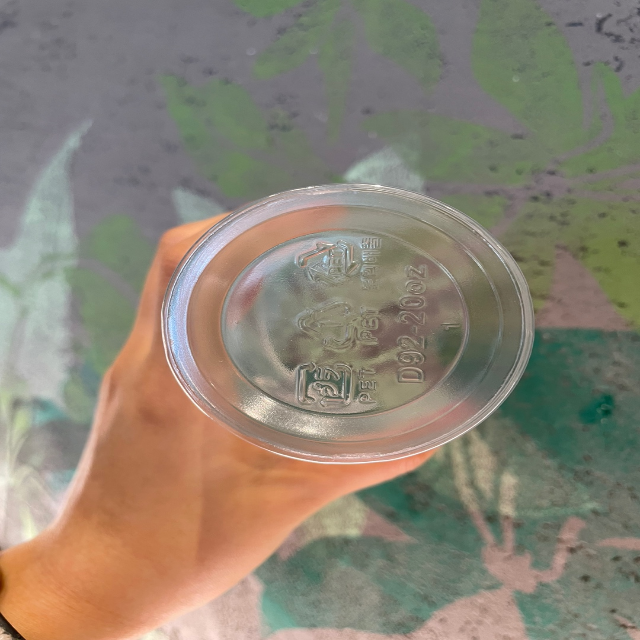pet: (296, 227, 390, 298), (284, 353, 385, 419), (289, 298, 386, 357)
